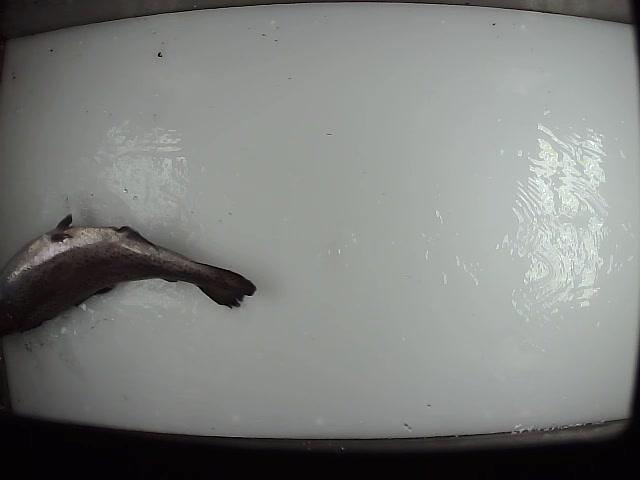fish: (1, 212, 257, 340)
